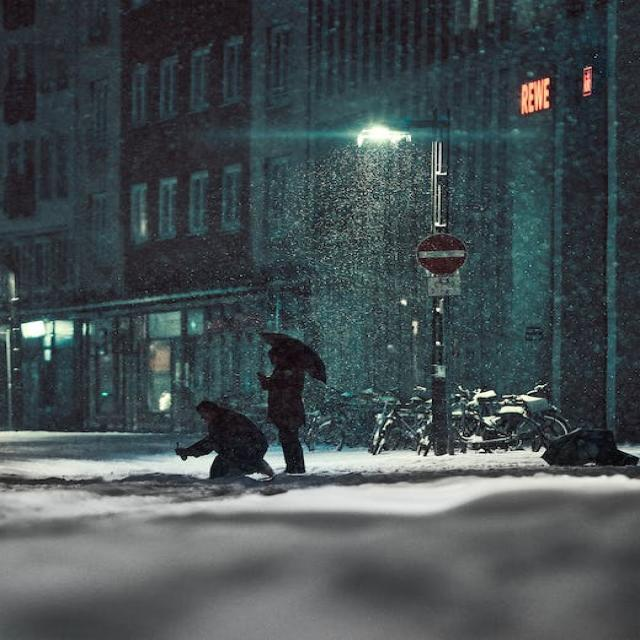no entry: (412, 230, 473, 280)
